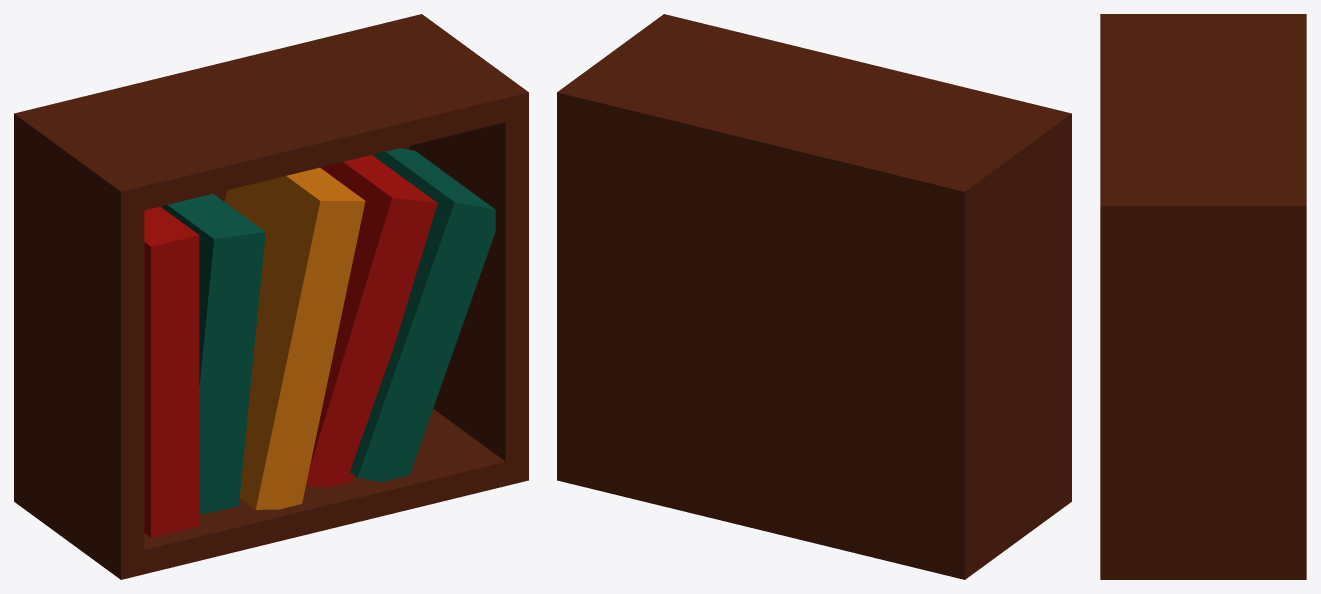
File: bookshelf-5e881a.fbx
3 renders of one model, left to right at view 1: azimuth 30°, elevation 25°; view 2: azimuth 150°, elevation 25°; view 3: azimuth 270°, elevation 25°, orthographic. The views are drawn at different scales.
Visible parts, largest first — view 1: mesh_0_wood, mesh_0_wood_light, mesh_0_Mat_239B8B, mesh_0_Mat_E8B23A; view 2: mesh_0_wood; view 3: mesh_0_wood.
Part boxes in pixels (bbox=[...]): mesh_0_wood: bbox=[14, 14, 528, 579]; mesh_0_wood_light: bbox=[144, 155, 437, 537]; mesh_0_Mat_239B8B: bbox=[160, 148, 495, 514]; mesh_0_Mat_E8B23A: bbox=[224, 167, 365, 509]; mesh_0_wood: bbox=[557, 14, 1071, 579]; mesh_0_wood: bbox=[1100, 14, 1306, 579].
Size of the model in its own units: 44 by 40 by 20.
